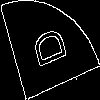D: (24, 25, 68, 73)
